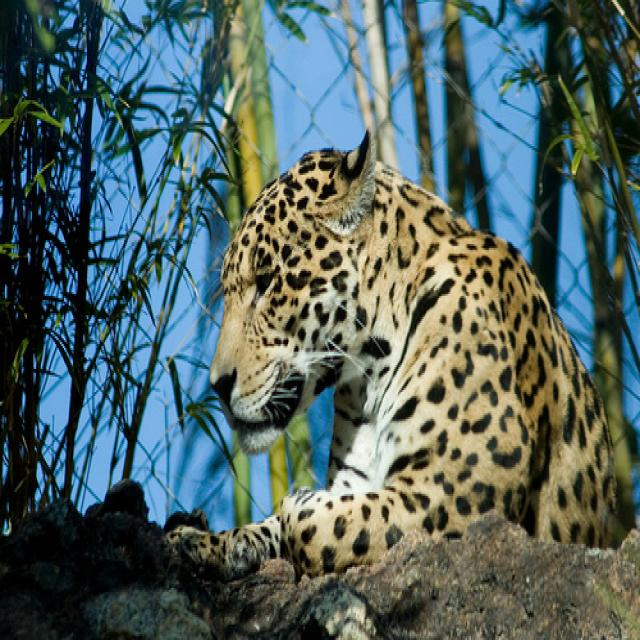Leopard: (154, 117, 620, 586)
